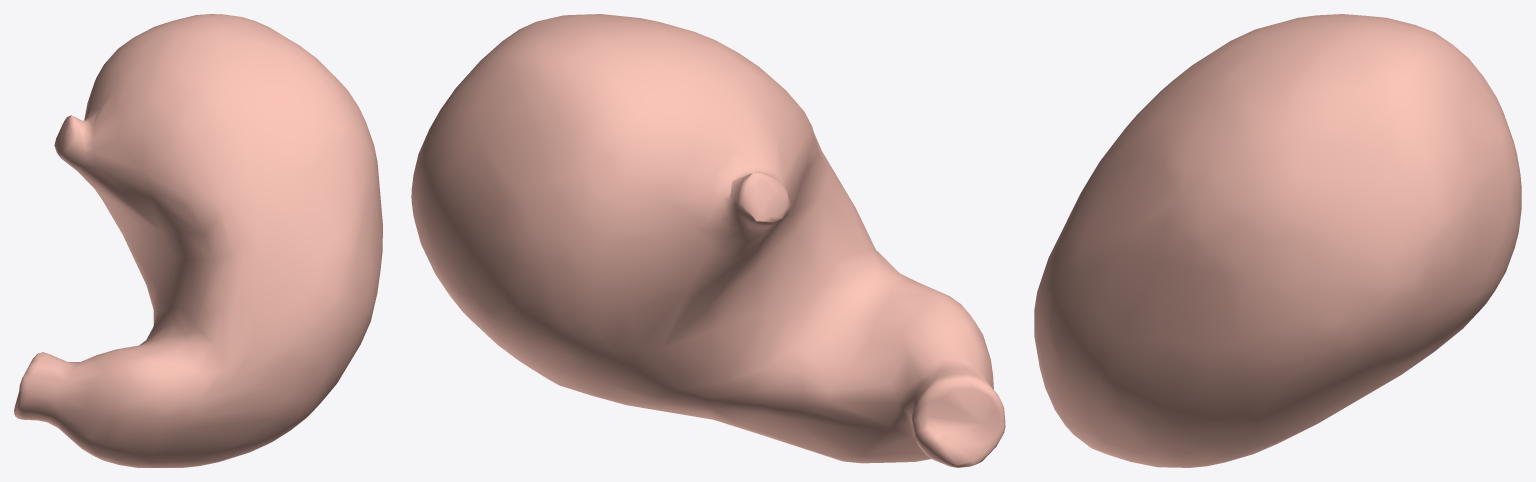
File: stomach.glb
The picture shows the model from 3 angles, left to right: view 1: azimuth 30°, elevation 25°; view 2: azimuth 150°, elevation 25°; view 3: azimuth 270°, elevation 25°; orthographic projection. The views are drawn at different scales.
Parts seen in each view (by area): view 1: FJ2564; view 2: FJ2564; view 3: FJ2564.
Boxes of the visible parts, x1=… form: FJ2564: x1=14, y1=14, x2=382, y2=467; FJ2564: x1=411, y1=14, x2=1005, y2=467; FJ2564: x1=1034, y1=14, x2=1521, y2=467.
Size of the model in its own units: 2.7 by 2.35 by 2.27.
